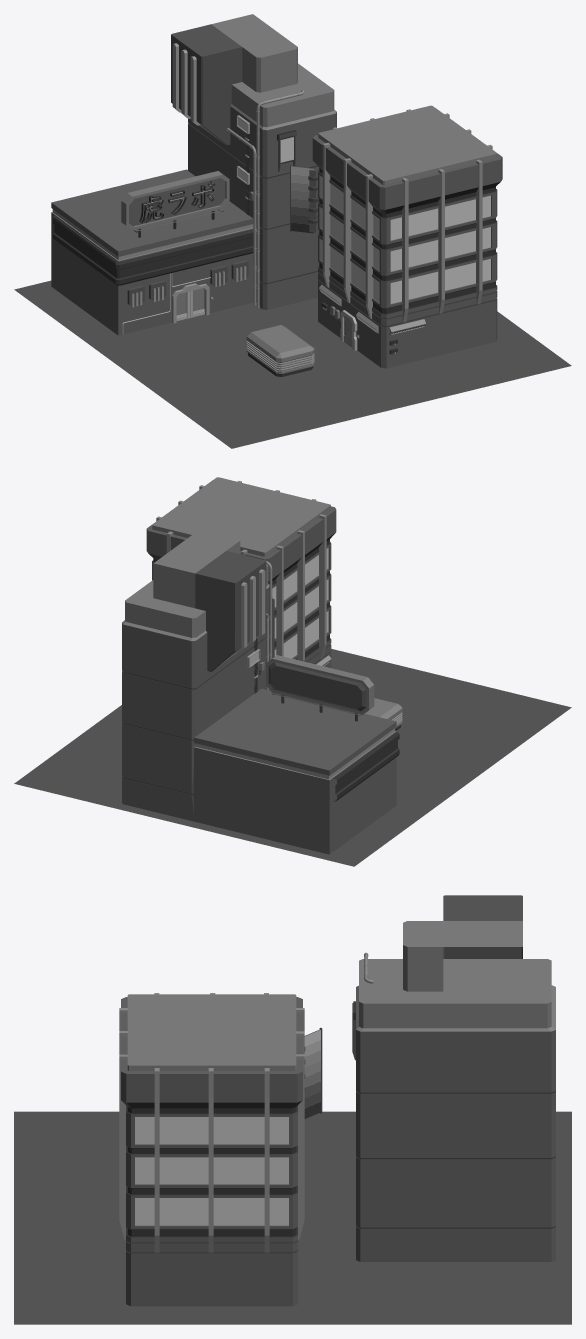
File: environment_test.FBX
3 renders of one model, top to bottom at view 1: azimuth 30°, elevation 25°; view 2: azimuth 150°, elevation 25°; view 3: azimuth 270°, elevation 25°, orthographic. The views are drawn at different scales.
Visible parts, largest first — view 1: ground, building_4st_01, building_4s_02, building_2s_01, building_4st_01_window, building_4st_01_metal, building_2s_metal, building_4s_02_metal, sign_tigerlab, heatsink_large, sign_tigerlab_light, wall_sign_pane (+2 smaller); view 2: building_4s_02, ground, building_2s_01, building_4st_01, sign_tigerlab, building_4s_02_metal, building_4st_01_metal, building_4st_01_window, building_2s_metal, heatsink_large; view 3: building_4s_02, ground, building_4st_01, building_4s_02_metal, building_4st_01_window, building_4st_01_metal, wall_sign_pane.
Boxes of the visible parts, <box> form: ground: <box>14,280,571,448</box>; building_4st_01: <box>312,105,502,368</box>; building_4s_02: <box>171,14,336,309</box>; building_2s_01: <box>51,169,253,335</box>; building_4st_01_window: <box>320,176,490,303</box>; building_4st_01_metal: <box>322,109,492,322</box>; building_2s_metal: <box>53,215,253,285</box>; building_4s_02_metal: <box>172,43,334,127</box>; sign_tigerlab: <box>121,171,229,230</box>; heatsink_large: <box>246,325,314,376</box>; sign_tigerlab_light: <box>129,178,225,226</box>; wall_sign_pane: <box>291,166,313,233</box>; building_4s_02: <box>122,530,269,821</box>; ground: <box>14,649,571,866</box>; building_2s_01: <box>194,688,396,854</box>; building_4st_01: <box>146,477,336,667</box>; sign_tigerlab: <box>266,655,374,714</box>; building_4s_02_metal: <box>125,564,268,651</box>; building_4st_01_metal: <box>156,481,326,661</box>; building_4st_01_window: <box>272,548,328,658</box>; building_2s_metal: <box>333,731,399,801</box>; heatsink_large: <box>365,698,402,730</box>; building_4s_02: <box>356,895,555,1261</box>; ground: <box>14,1111,571,1324</box>; building_4st_01: <box>121,994,302,1306</box>; building_4s_02_metal: <box>359,959,551,1028</box>; building_4st_01_window: <box>135,1117,288,1225</box>; building_4st_01_metal: <box>119,993,304,1252</box>; wall_sign_pane: <box>304,1030,320,1118</box>.
Bounding box in the file's own units: 1384 × 921 × 1533.
